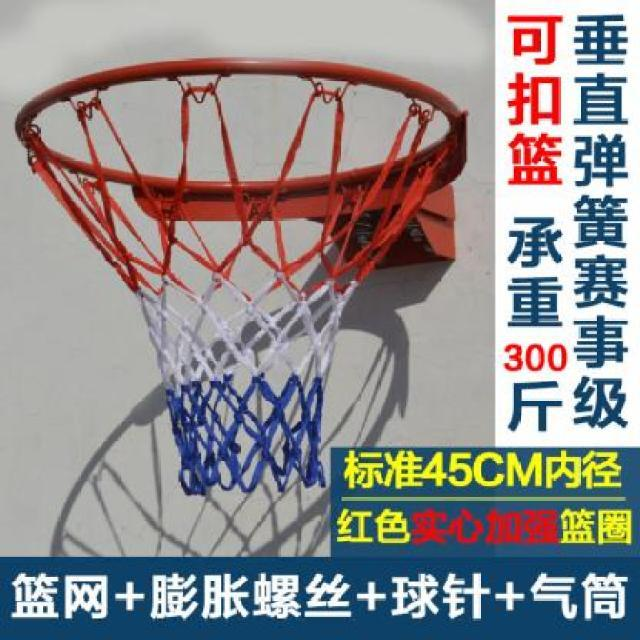rim: (16, 58, 468, 498)
